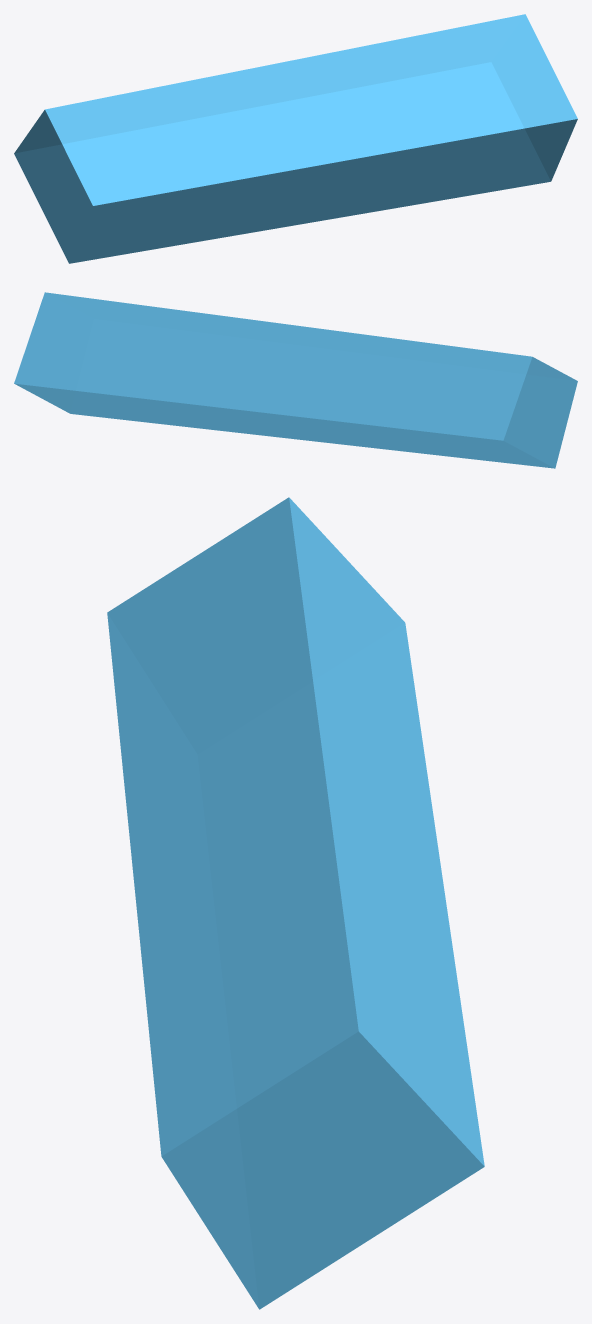
The model's file is Event_421115418_HErechit_75.fbx.
3 views of the same model, one above another, from view 1: azimuth 30°, elevation 25°; view 2: azimuth 150°, elevation 25°; view 3: azimuth 270°, elevation 25° (orthographic). The views are drawn at different scales.
Visible parts, largest first — view 1: Model; view 2: Model; view 3: Model.
Boxes of the visible parts, <box> form: Model: <box>14,14,577,263</box>; Model: <box>14,292,577,468</box>; Model: <box>107,497,484,1309</box>.
Bounding box in the file's own units: 0.8657 × 0.3117 × 0.301.
